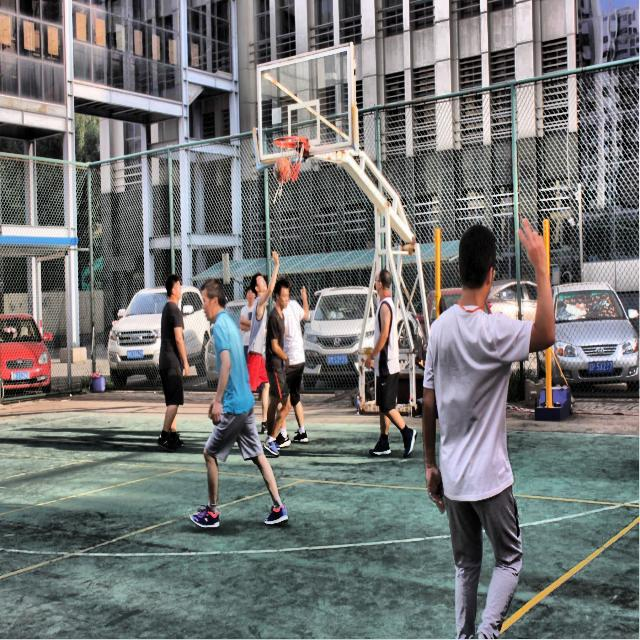board: (275, 157, 291, 182)
